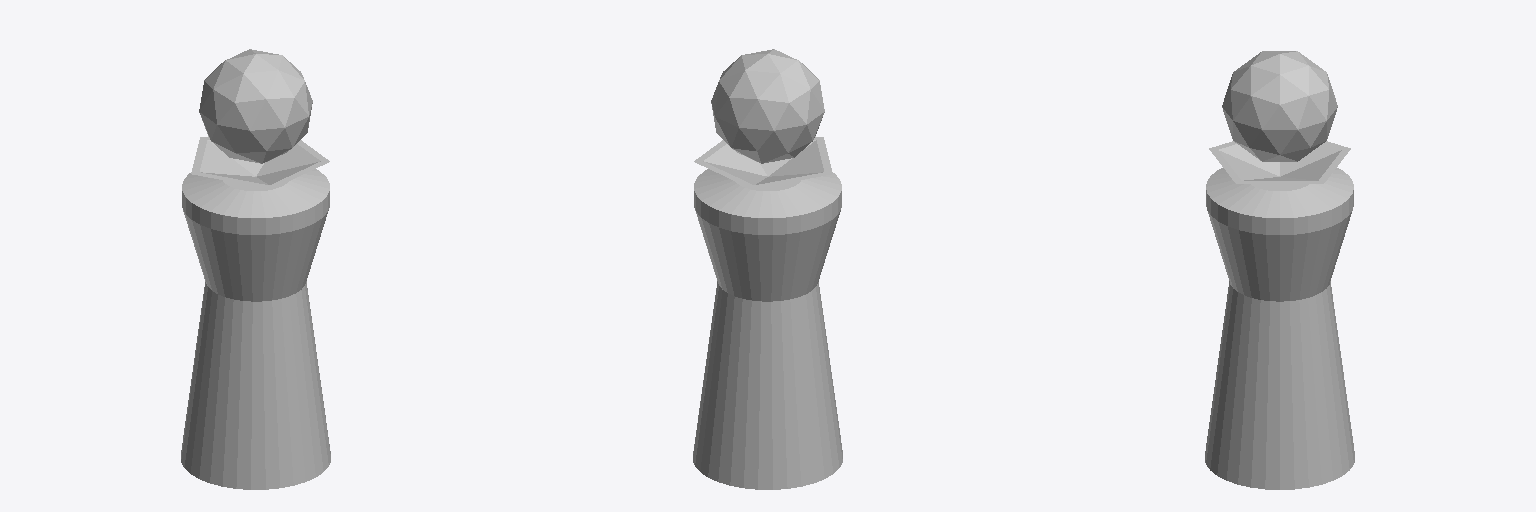
File: Basic Tower.obj
The picture shows the model from 3 angles: view 1: azimuth 30°, elevation 25°; view 2: azimuth 150°, elevation 25°; view 3: azimuth 270°, elevation 25°; orthographic projection.
Parts seen in each view (by area): view 1: Cylinder, Icosphere; view 2: Cylinder, Icosphere; view 3: Cylinder, Icosphere.
Part boxes in pixels (left/top/right/bottom): Cylinder: left=181, top=136, right=330, bottom=489; Icosphere: left=199, top=49, right=312, bottom=163; Cylinder: left=693, top=136, right=842, bottom=489; Icosphere: left=711, top=49, right=824, bottom=163; Cylinder: left=1205, top=141, right=1354, bottom=489; Icosphere: left=1222, top=51, right=1337, bottom=161.
Size of the model in its own units: 2 by 5.9 by 2.